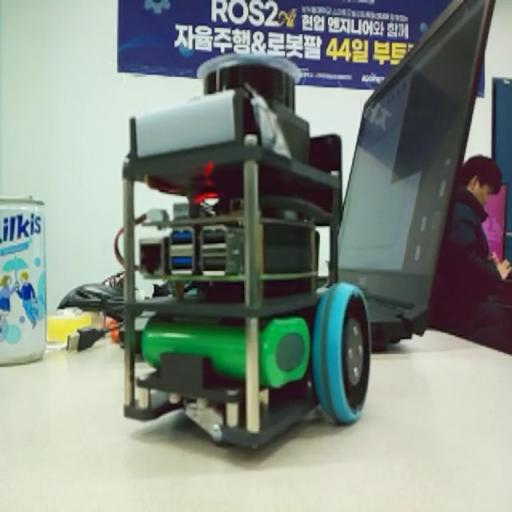pinky_63: (111, 50, 378, 446)
